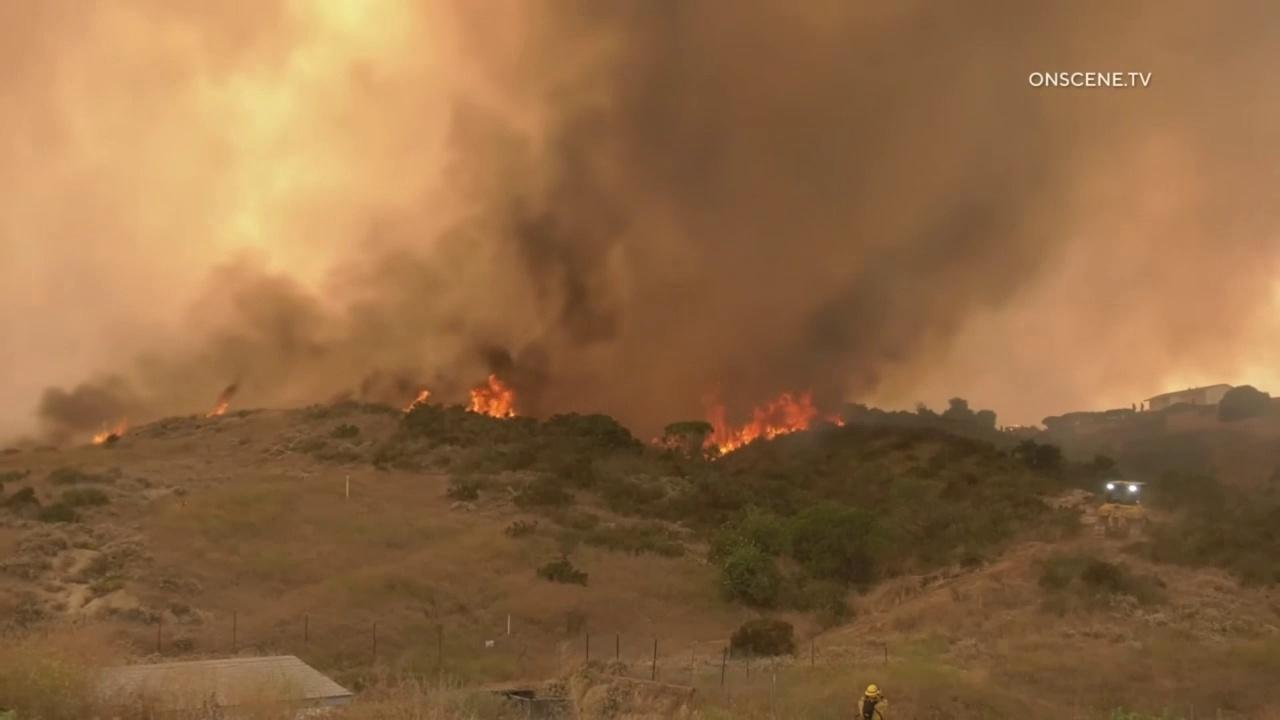fire: (701, 384, 818, 462), (464, 372, 516, 419), (91, 417, 129, 446), (401, 388, 431, 413), (205, 400, 228, 418), (827, 414, 845, 427), (651, 436, 658, 446)
smoke: (0, 0, 1280, 464)
